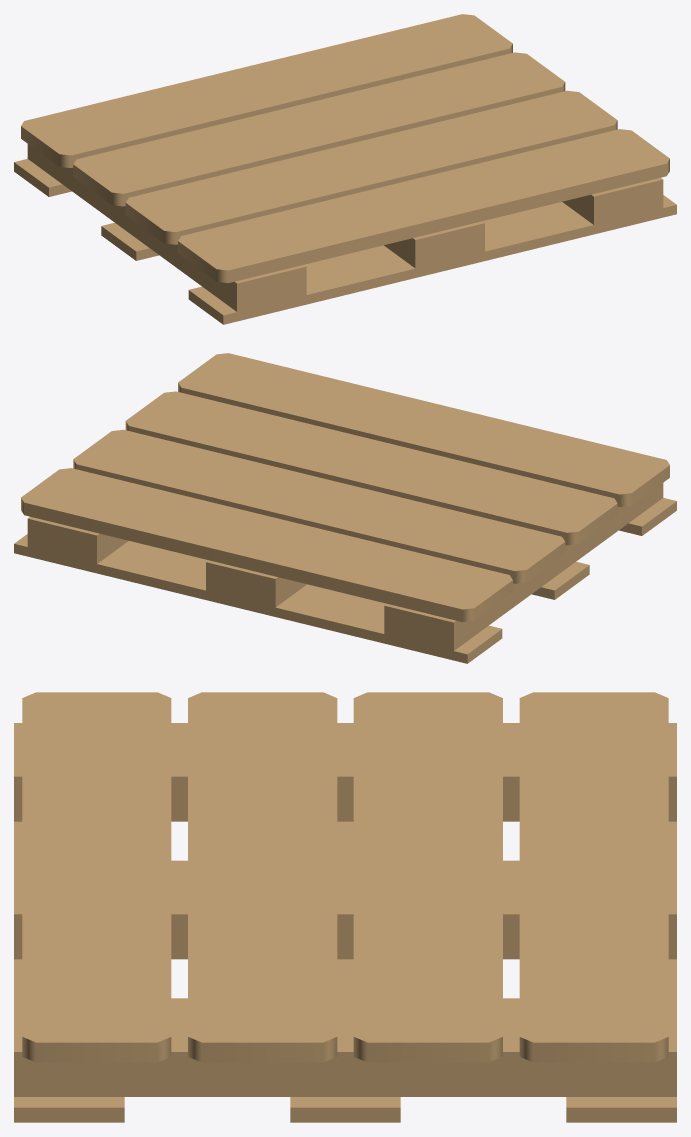
Rendered from pallet.glb.
3 renders of one model, top to bottom at view 1: azimuth 30°, elevation 25°; view 2: azimuth 150°, elevation 25°; view 3: azimuth 270°, elevation 25°, orthographic. The views are drawn at different scales.
Parts seen in each view (by area): view 1: pallet_structure; view 2: pallet_structure; view 3: pallet_structure.
Boxes of the visible parts, <box> form: pallet_structure: <box>14,14,676,324</box>; pallet_structure: <box>14,353,676,663</box>; pallet_structure: <box>14,692,676,1122</box>.
Size of the model in its own units: 1.5 by 0.16 by 1.2.
